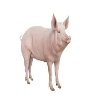heo: (19, 12, 73, 93)
